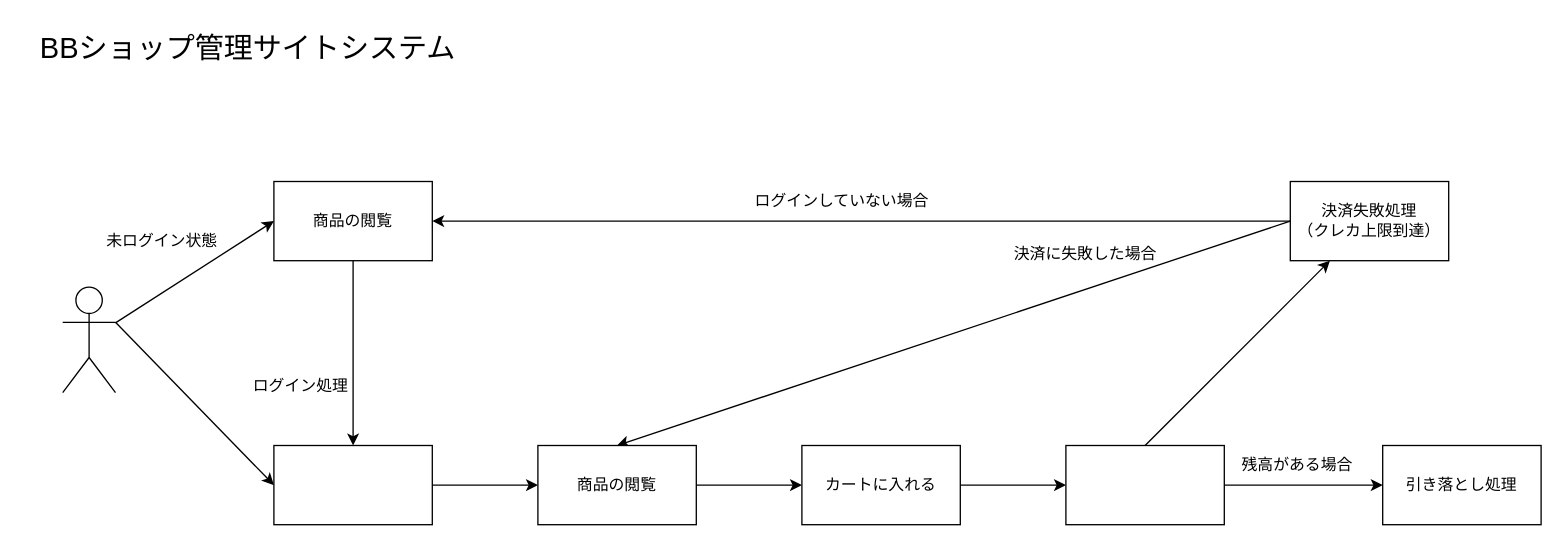
The diagram is 1564 pixels wide and 548 high, and some of its shapes have lost their labels. The centre of each missing label's shape, as x and y in pixels:
Actor: the point at 88,339
ログインをする: the point at 352,484
購入手続き: the point at 1144,484
